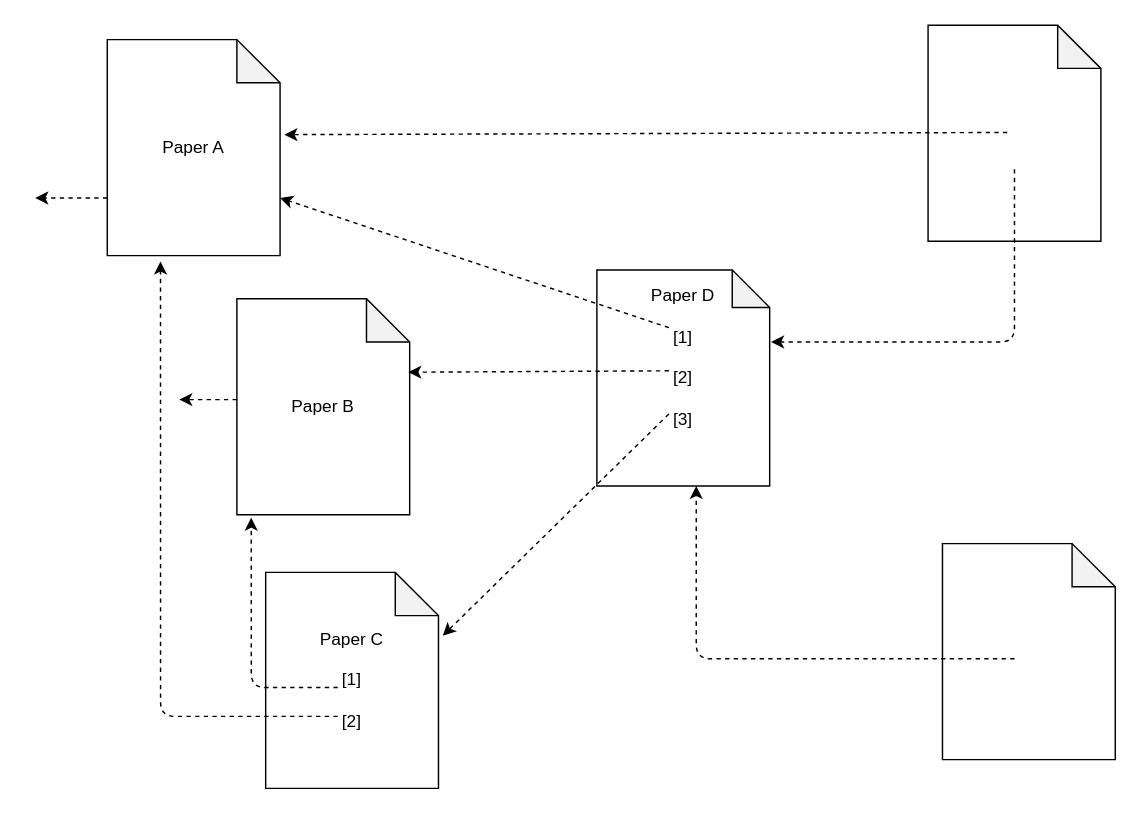
Image size: 1140x814. Some labels were removed from this diagram. The centre of each missing label's shape, as x and y in pixels:
Paper E [1] [2]: (1014,132)
Paper F [1]: (1028,651)
